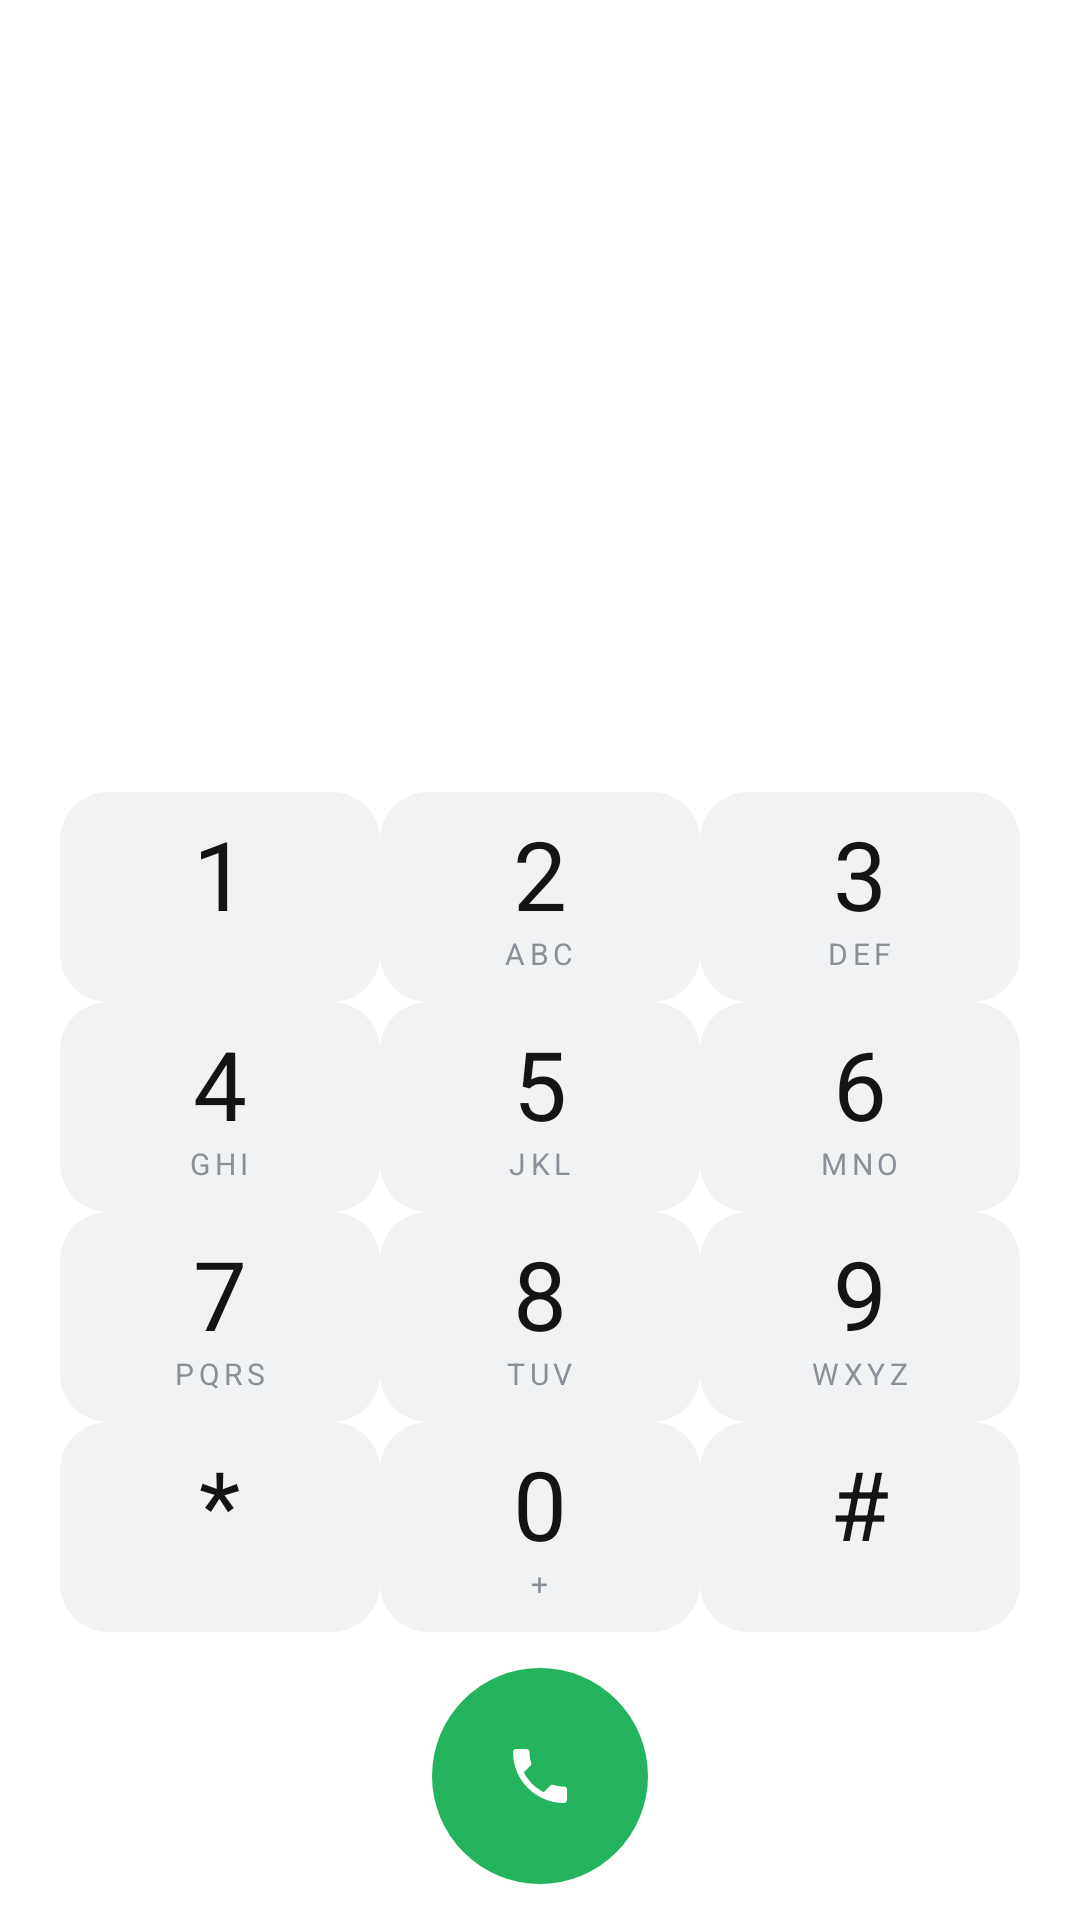

Locate icon controls on the screen. Image size 1080 × 1920, boxes as {"left": x1, "top": y1, "right": x2, "bottom": y2}.
Call: {"left": 432, "top": 1668, "right": 648, "bottom": 1884}
